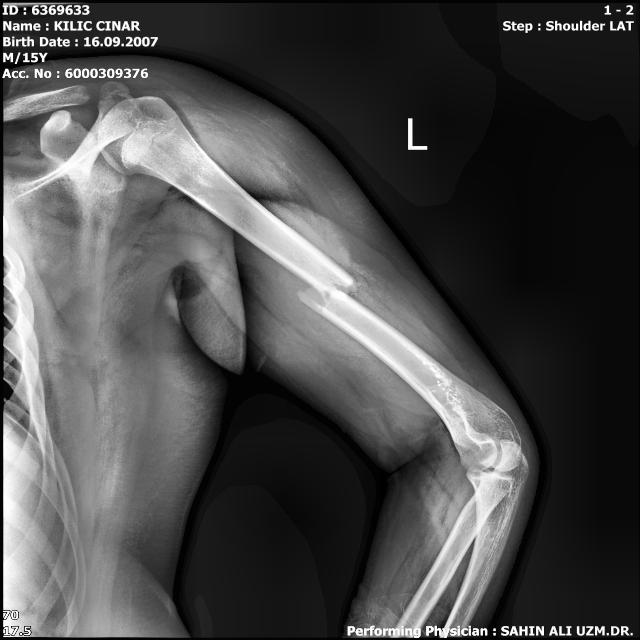Fracture: (291, 272, 366, 316)
